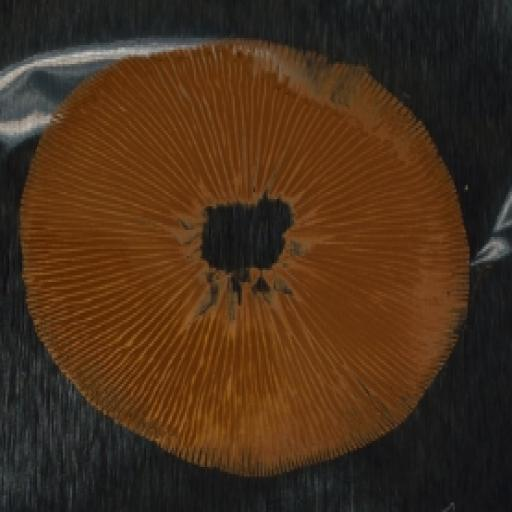mushroom: (18, 34, 475, 479)
